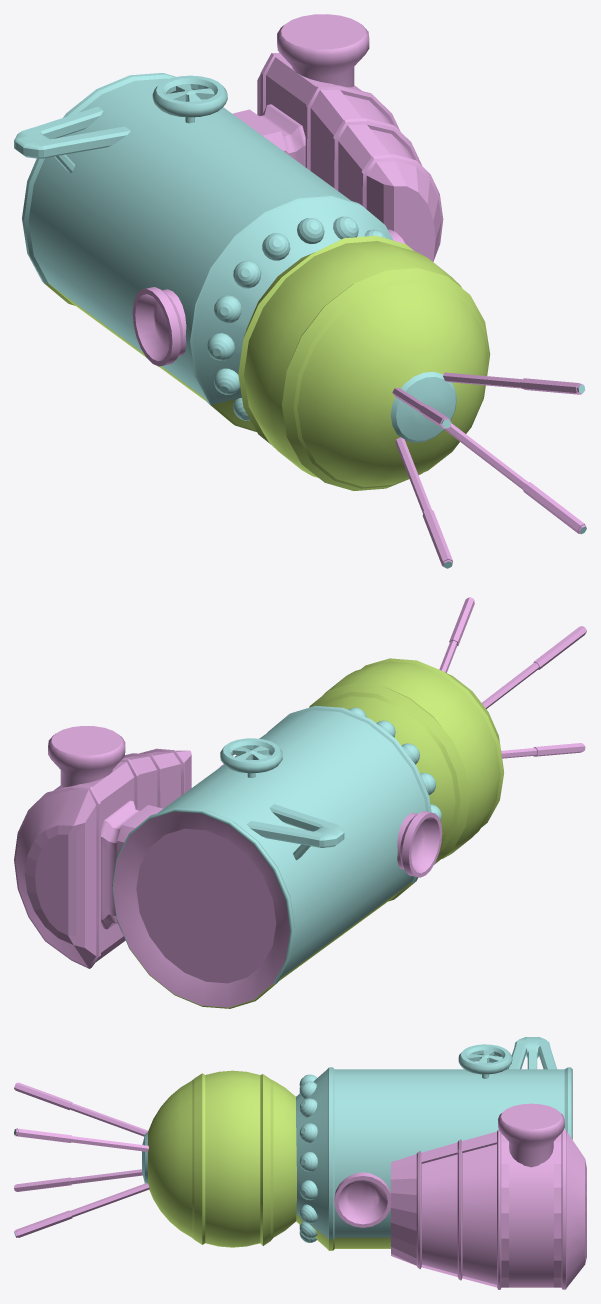
File: S_playerSputnikDelivery4UnityIDtest.fbx
The picture shows the model from 3 angles, top to bottom: view 1: azimuth 30°, elevation 25°; view 2: azimuth 150°, elevation 25°; view 3: azimuth 270°, elevation 25°; orthographic projection. The views are drawn at different scales.
Parts seen in each view (by area): view 1: pSphere2; view 2: pSphere2; view 3: pSphere2.
Part boxes in pixels (left/top/right/bottom): pSphere2: left=14, top=14, right=586, bottom=568; pSphere2: left=14, top=597, right=586, bottom=1008; pSphere2: left=14, top=1037, right=586, bottom=1289.
Bounding box in the file's own units: 489 × 335 × 920.
